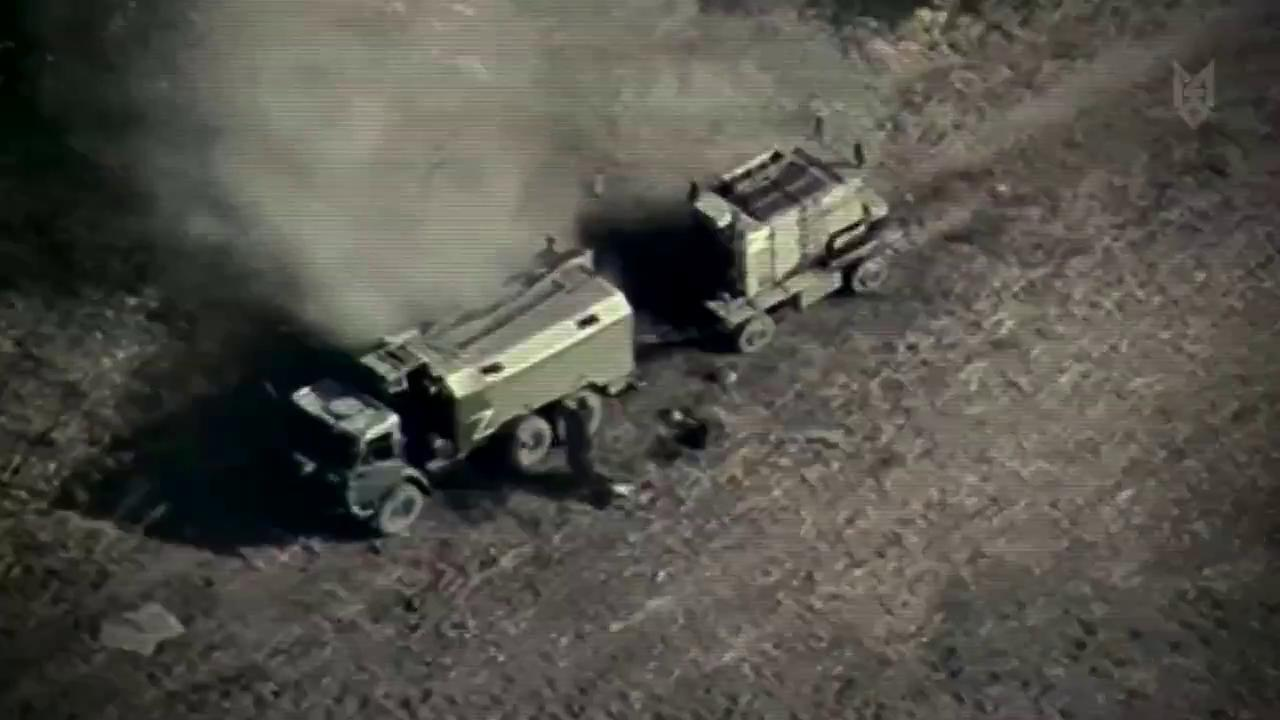tank: (266, 239, 646, 543), (661, 126, 900, 358)
